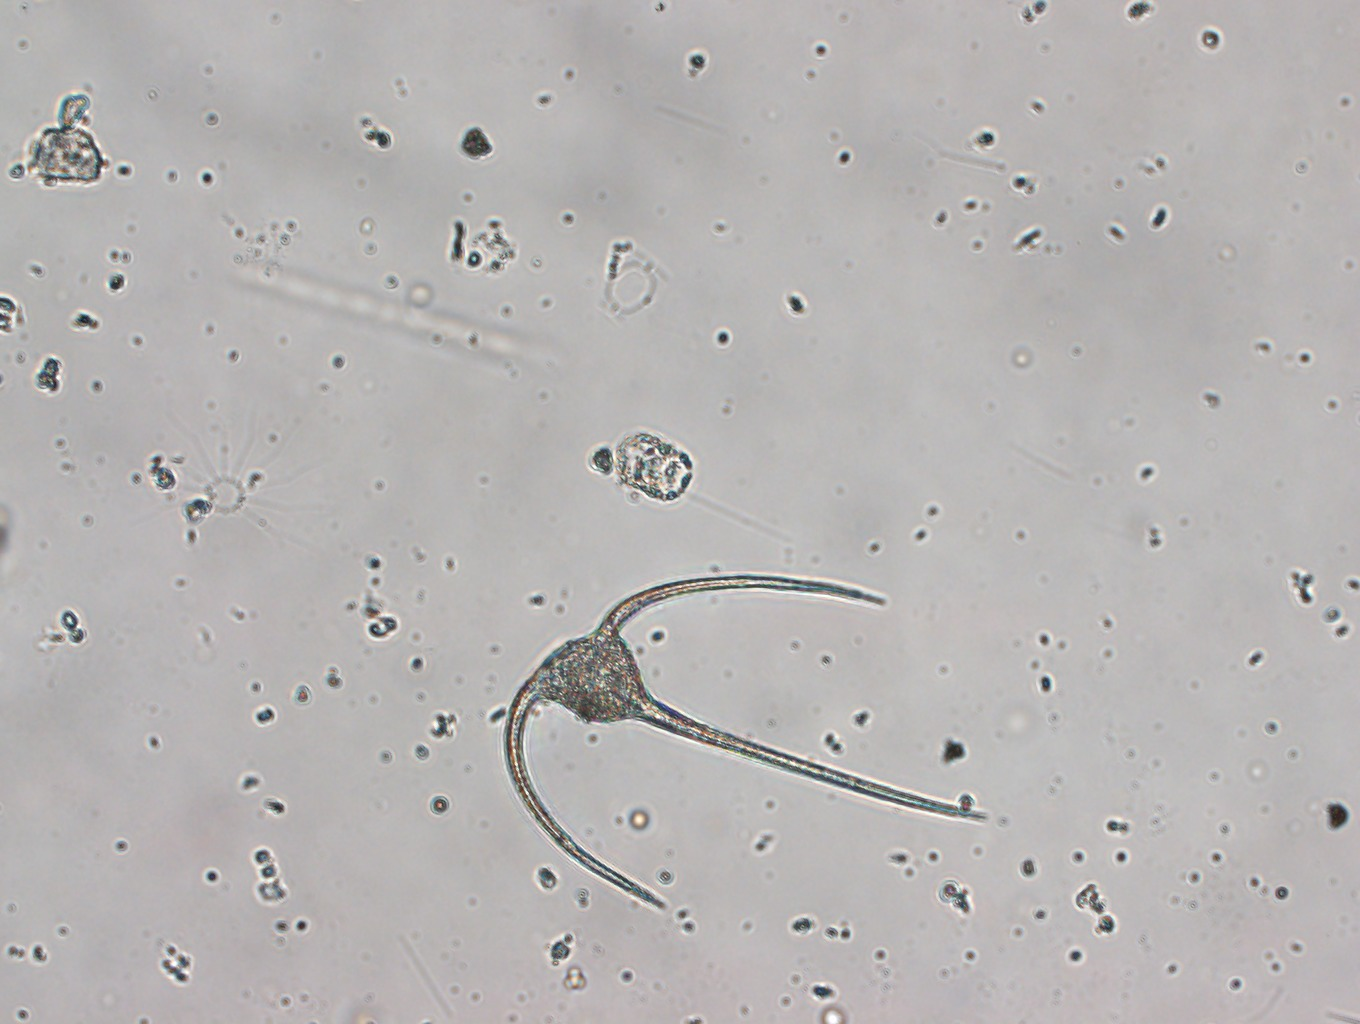ceratium trichoceros: (503, 575, 988, 912)
